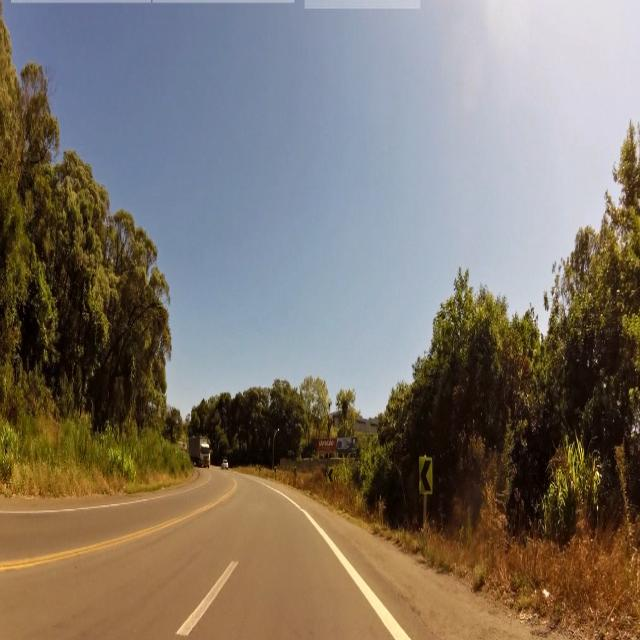Del: (419, 454, 433, 496)
